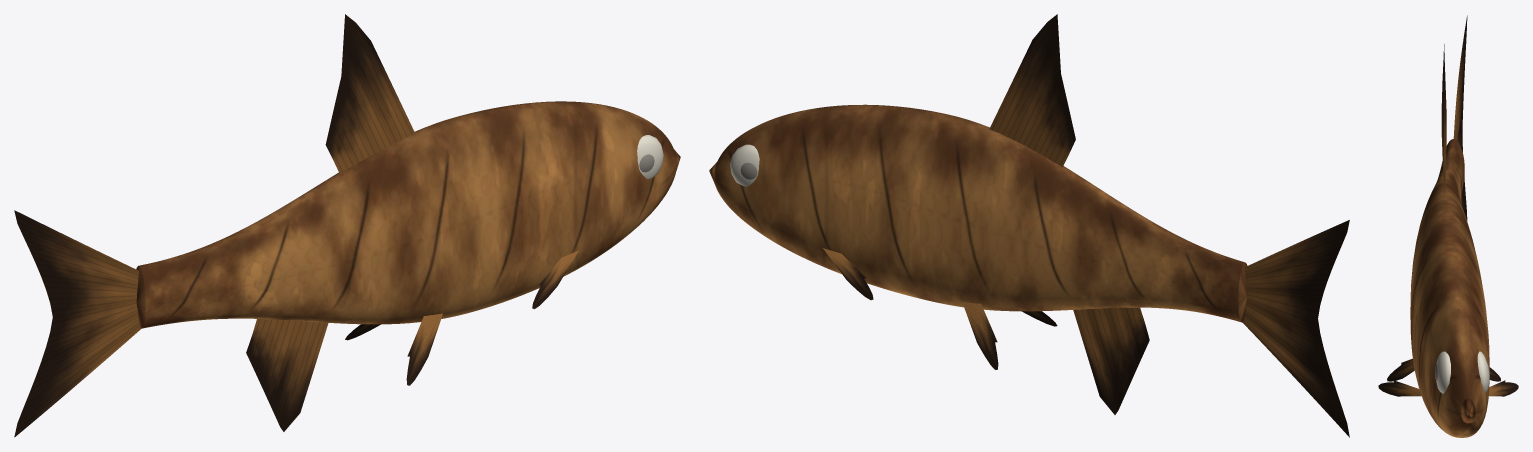
Rendered from fish_rudd_cooked.gltf.
3 renders of one model, left to right at view 1: azimuth 30°, elevation 25°; view 2: azimuth 150°, elevation 25°; view 3: azimuth 270°, elevation 25°, orthographic. The views are drawn at different scales.
Parts seen in each view (by area): view 1: fish_rudd_cooked; view 2: fish_rudd_cooked; view 3: fish_rudd_cooked.
Boxes of the visible parts, x1=… form: fish_rudd_cooked: x1=14, y1=14, x2=680, y2=437; fish_rudd_cooked: x1=709, y1=14, x2=1349, y2=437; fish_rudd_cooked: x1=1378, y1=15, x2=1518, y2=437.
Bounding box in the file's own units: 0.2384 × 0.1378 × 0.0474.
6 materials, 4 textured.
